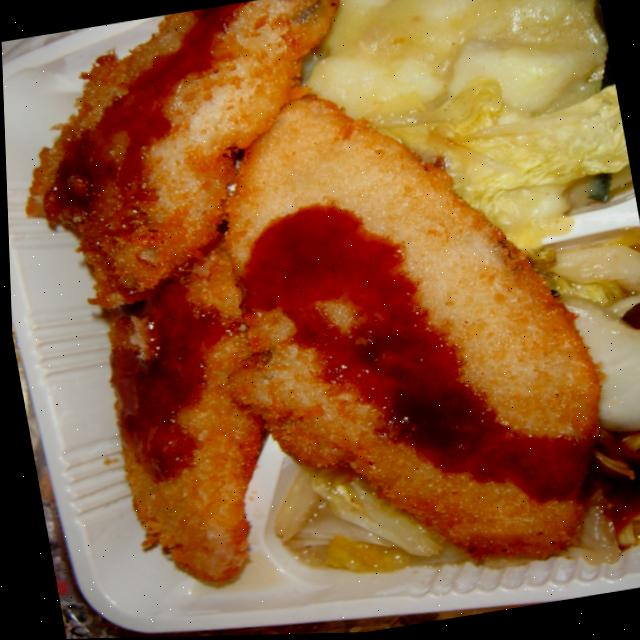炸货点心: (0, 0, 632, 640)
熟制海鲜: (0, 0, 632, 640)
